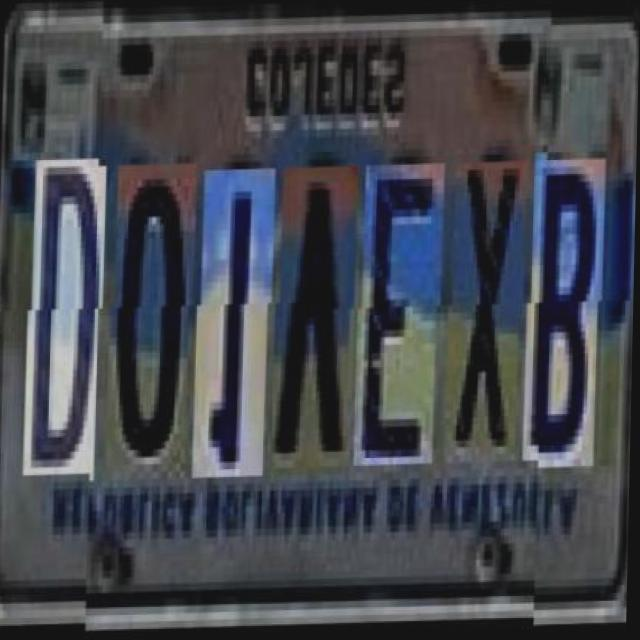1: (198, 170, 276, 479)
b: (528, 156, 606, 464)
d: (29, 166, 107, 483)
e: (359, 166, 446, 468)
o: (111, 164, 198, 482)
v: (276, 168, 359, 477)
x: (450, 164, 527, 465)
